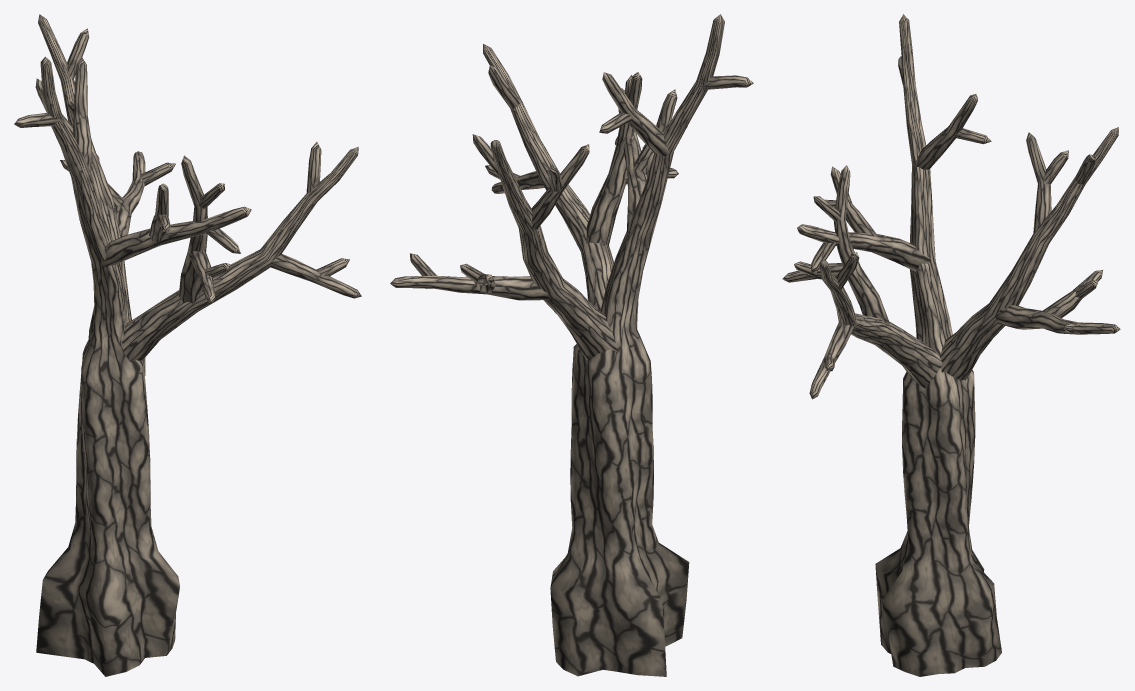
The model's file is deadtree.gltf.
3 renders of one model, left to right at view 1: azimuth 30°, elevation 25°; view 2: azimuth 150°, elevation 25°; view 3: azimuth 270°, elevation 25°, orthographic. The views are drawn at different scales.
Parts seen in each view (by area): view 1: deadtree_trunk_LOD0; view 2: deadtree_trunk_LOD0; view 3: deadtree_trunk_LOD0.
Boxes of the visible parts, x1,y1,x2,y2 form: deadtree_trunk_LOD0: [14, 14, 361, 676]; deadtree_trunk_LOD0: [390, 14, 753, 676]; deadtree_trunk_LOD0: [782, 14, 1120, 676].
Size of what is drawn, in the model's own units: 3.69 by 7.24 by 3.72.
Materials: 1 (1 with a texture image).
